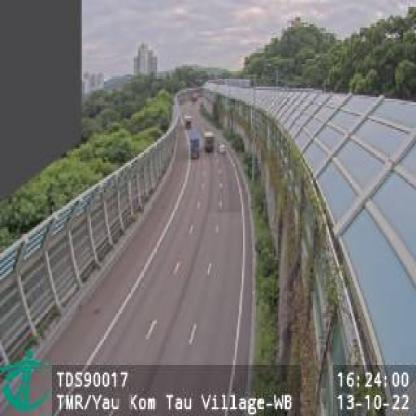Bus: (189, 133, 201, 160)
Car: (219, 141, 229, 156)
Truck: (204, 130, 216, 152)
